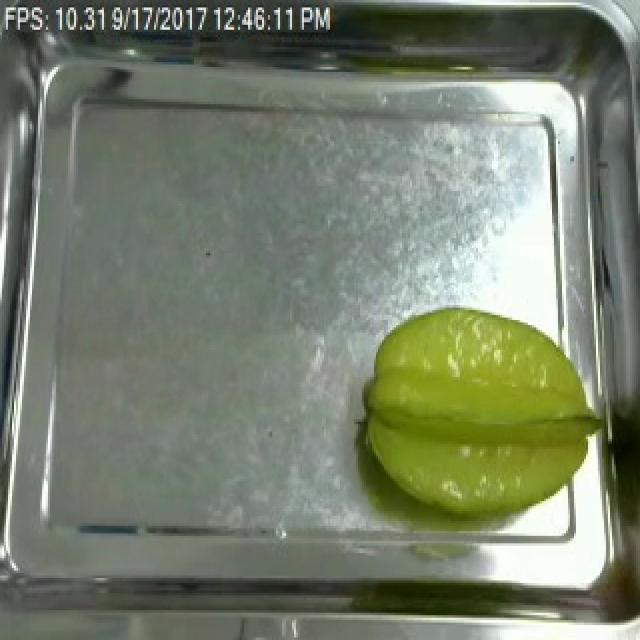fruit: (352, 300, 608, 541)
